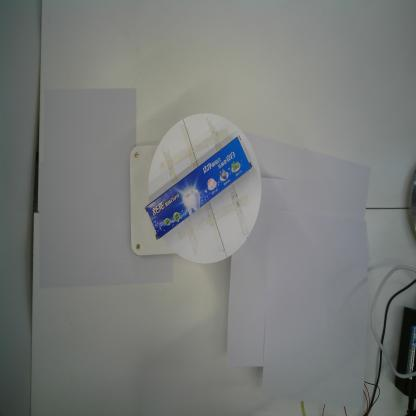Personal Hygiene: (141, 132, 252, 240)
